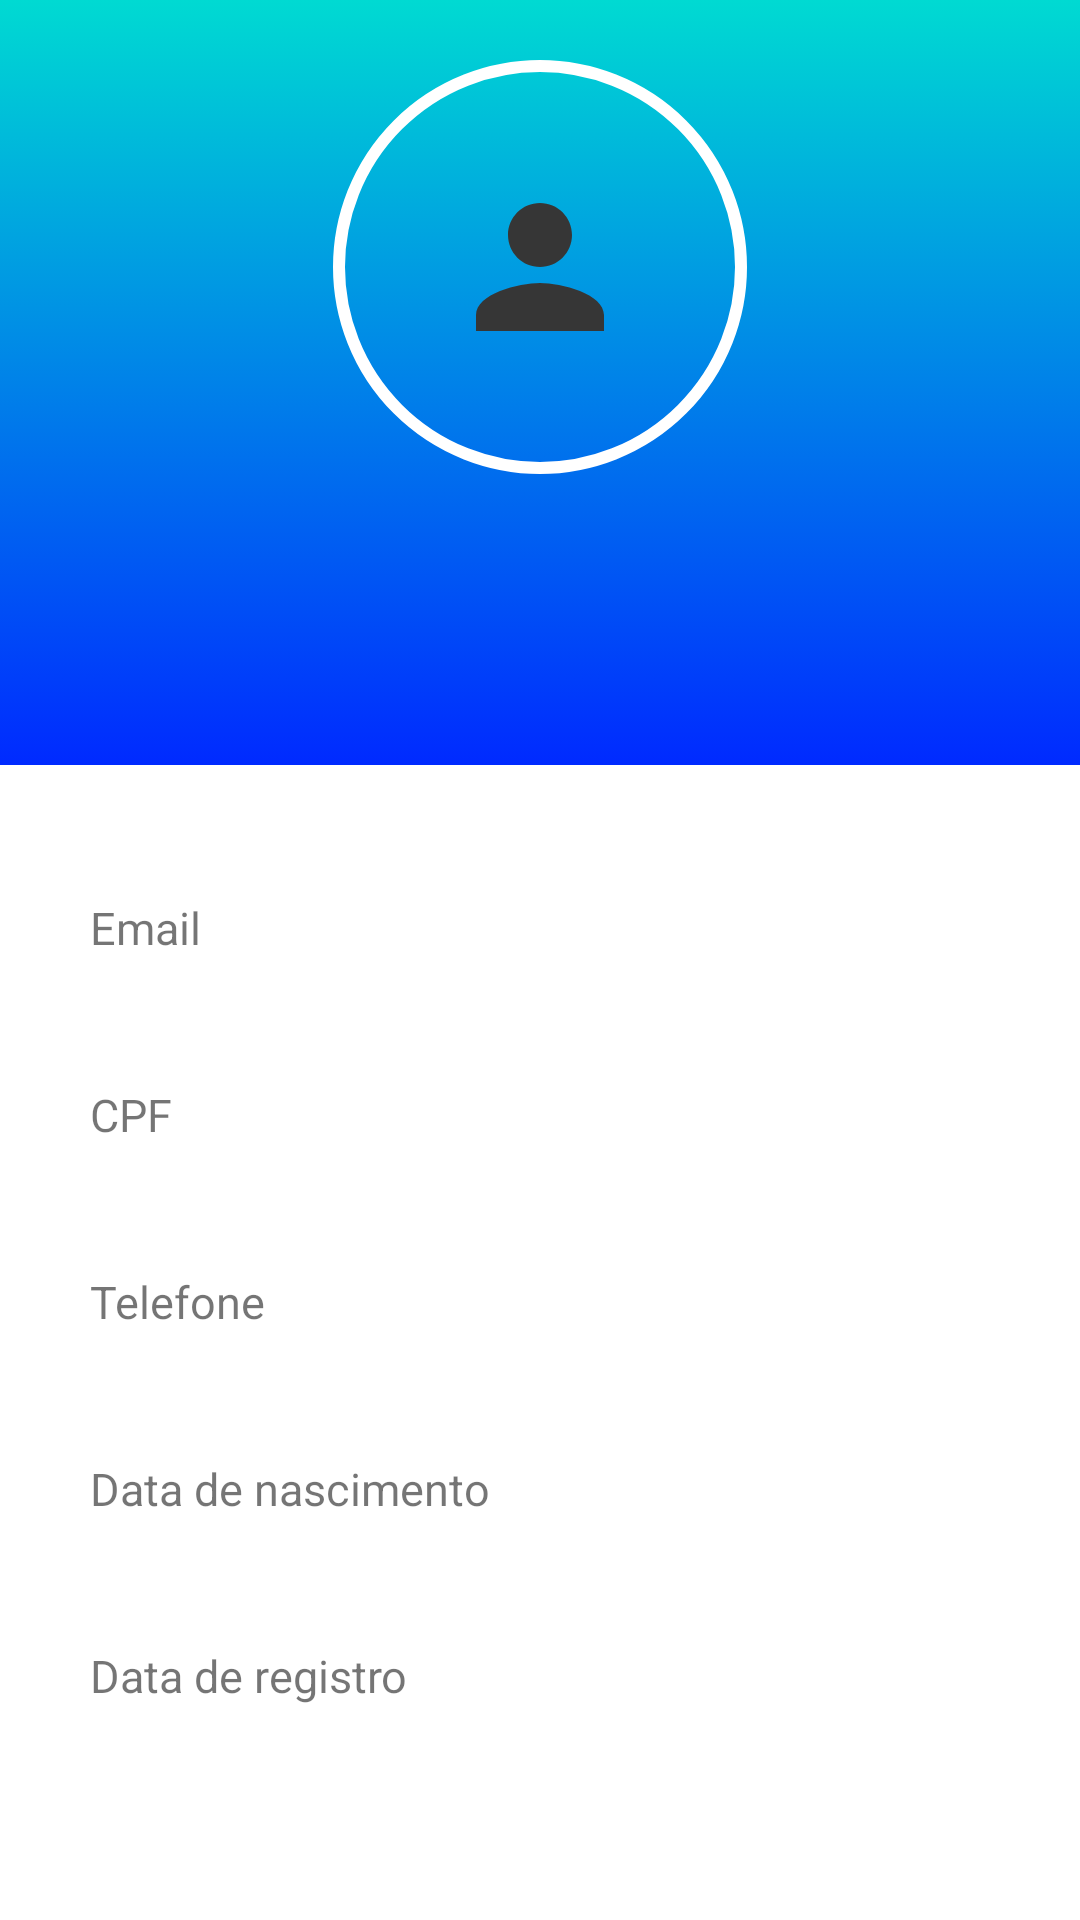

Point at icon controls on the screen. Image size 1080 x 1920, points as [x,y].
user: [540,267]
